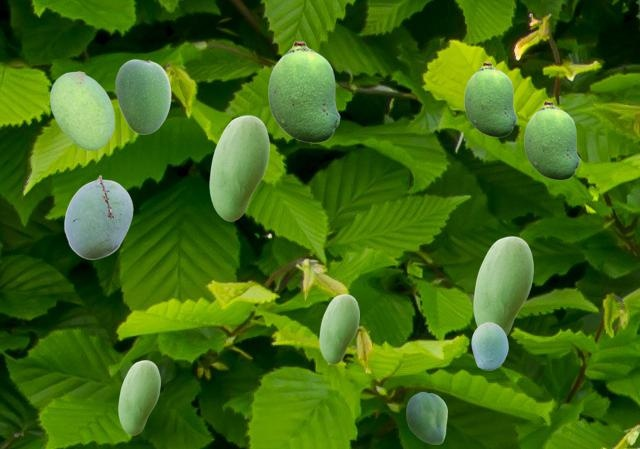green_mango: (268, 41, 339, 142), (209, 115, 268, 220), (473, 236, 532, 336), (64, 175, 132, 258), (50, 71, 113, 149), (524, 101, 579, 179), (115, 59, 170, 133), (464, 62, 516, 136), (118, 360, 159, 434), (319, 294, 358, 363), (406, 392, 446, 443), (471, 322, 507, 369)
